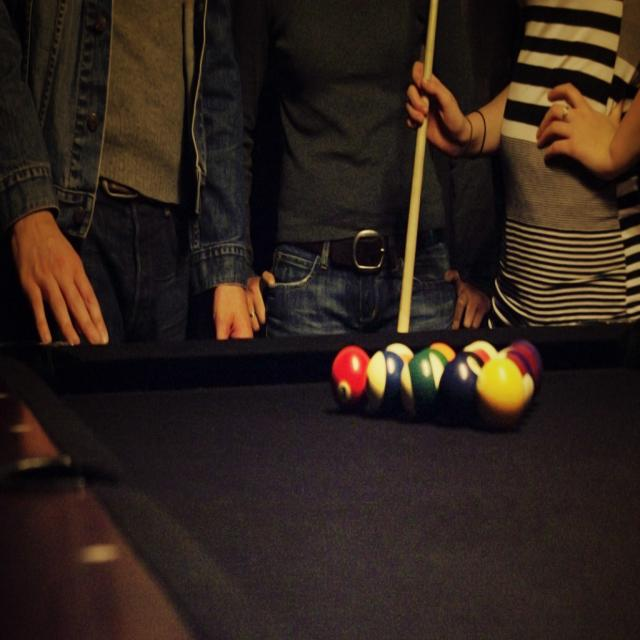Billiard table: (0, 320, 639, 639)
